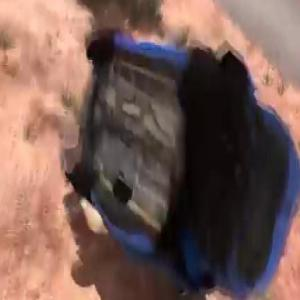severe: (59, 17, 300, 300)
